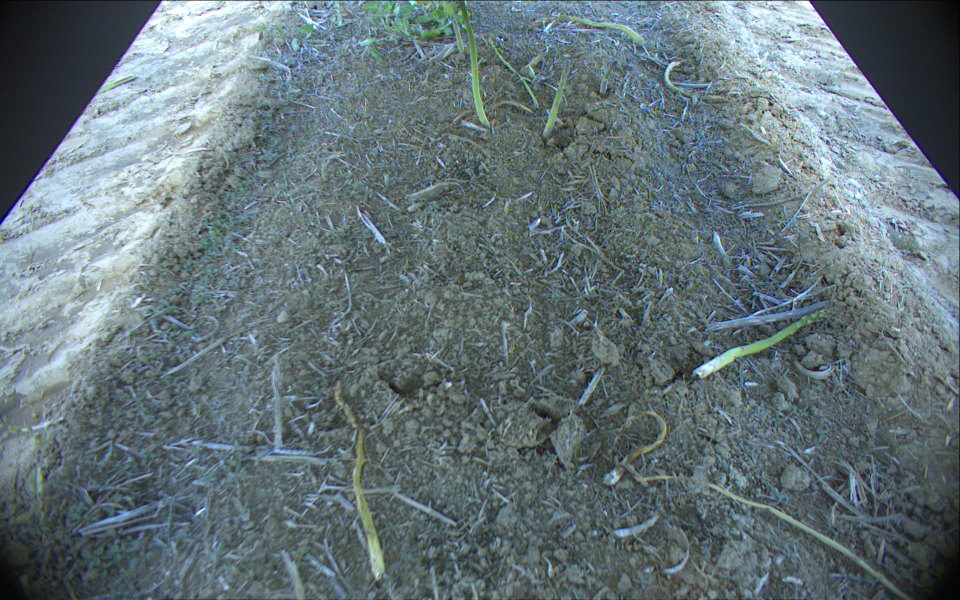aspa: (607, 409, 918, 600), (334, 382, 389, 579), (693, 307, 832, 380), (460, 1, 491, 128), (487, 35, 539, 106), (526, 16, 646, 45), (543, 59, 575, 139), (662, 61, 696, 118), (449, 16, 465, 56), (599, 61, 619, 93)
